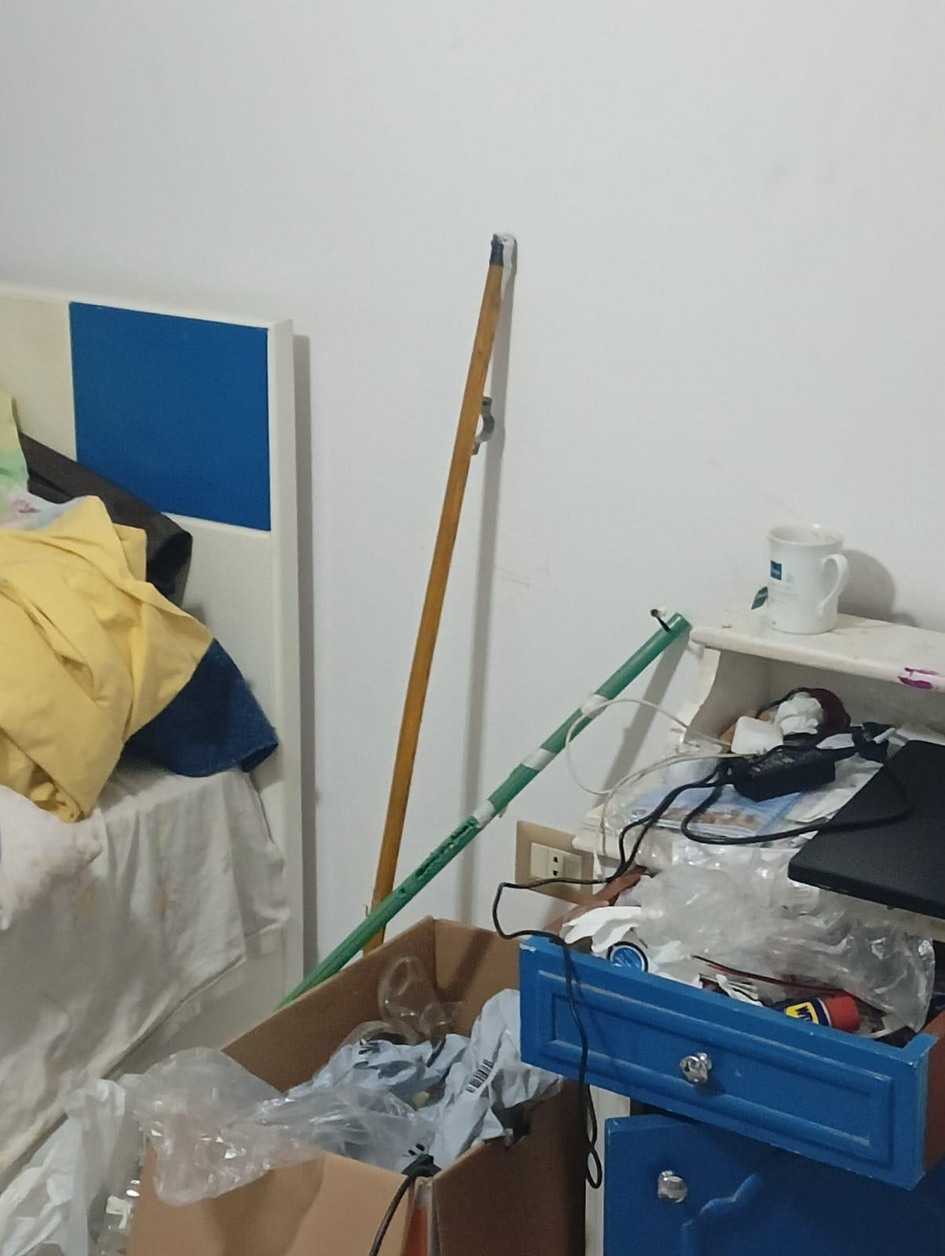cup: (766, 524, 849, 635)
